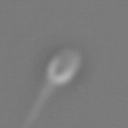normal: (17, 82, 54, 128)
